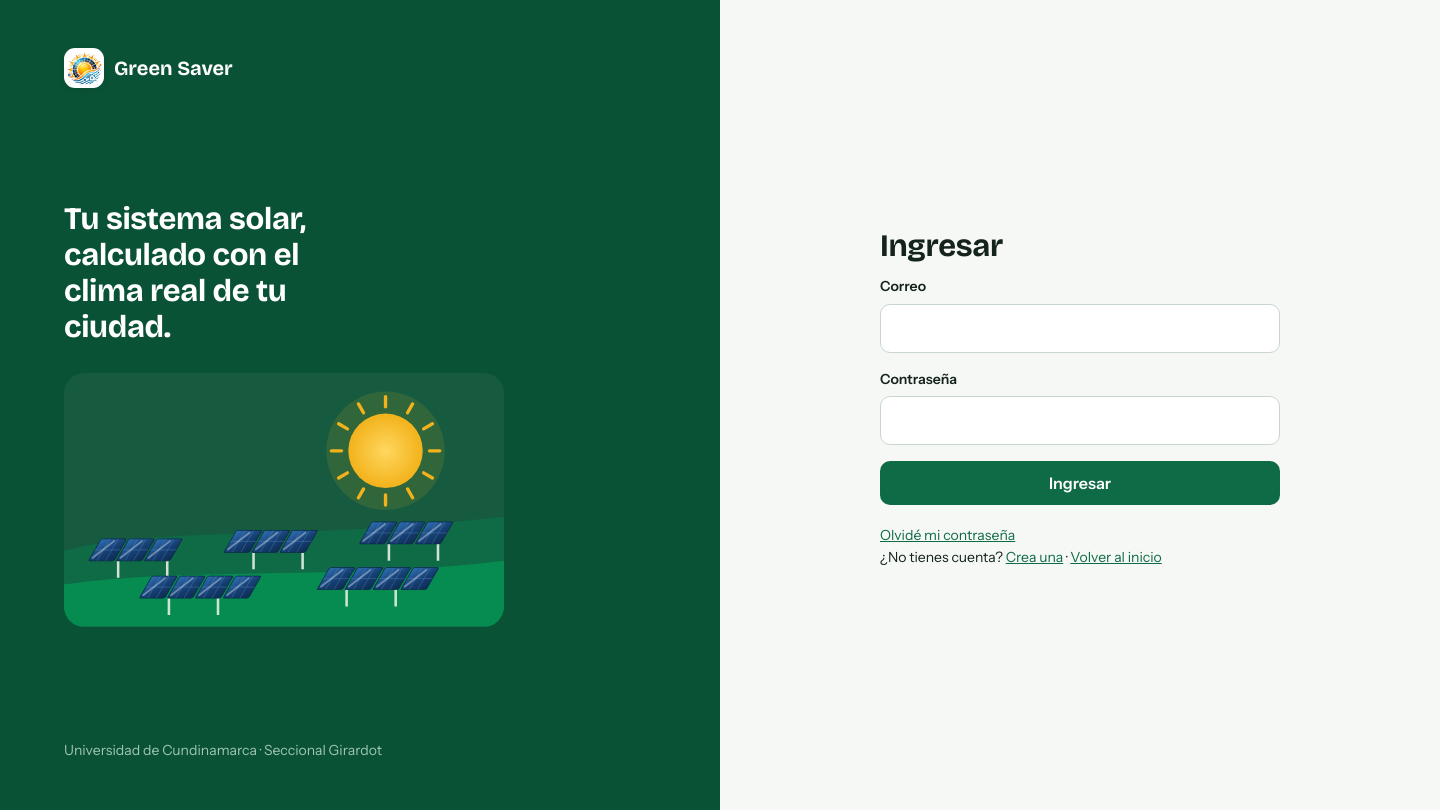
Test case: formularios › el login valida antes de llamar a la API
Click the button "Ingresar" at (1080, 483), box [880, 461, 1280, 505]
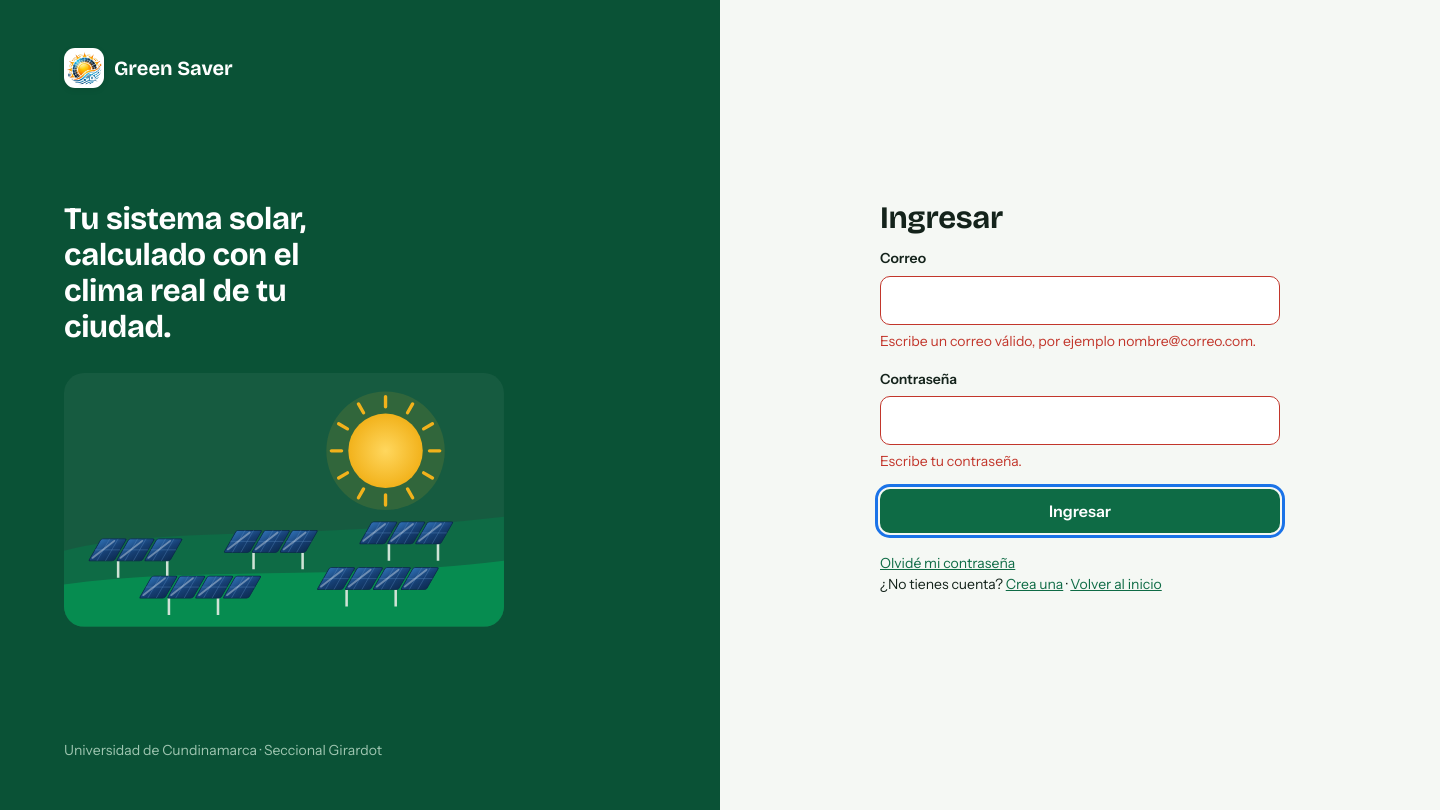
Now the text "Escribe un correo válido, por ejemplo nombre@correo.com." is shown, box [880, 331, 1280, 352]
Now the text "Escribe tu contraseña." is shown, box [880, 452, 1022, 470]
